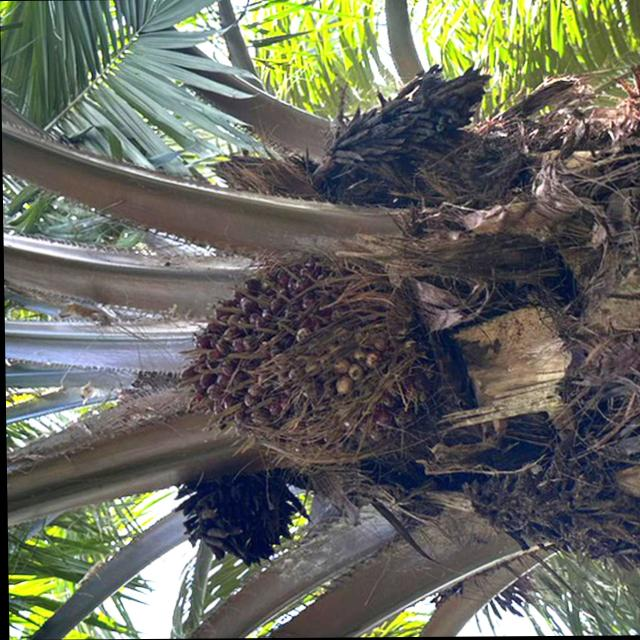ripe: (161, 235, 444, 483)
